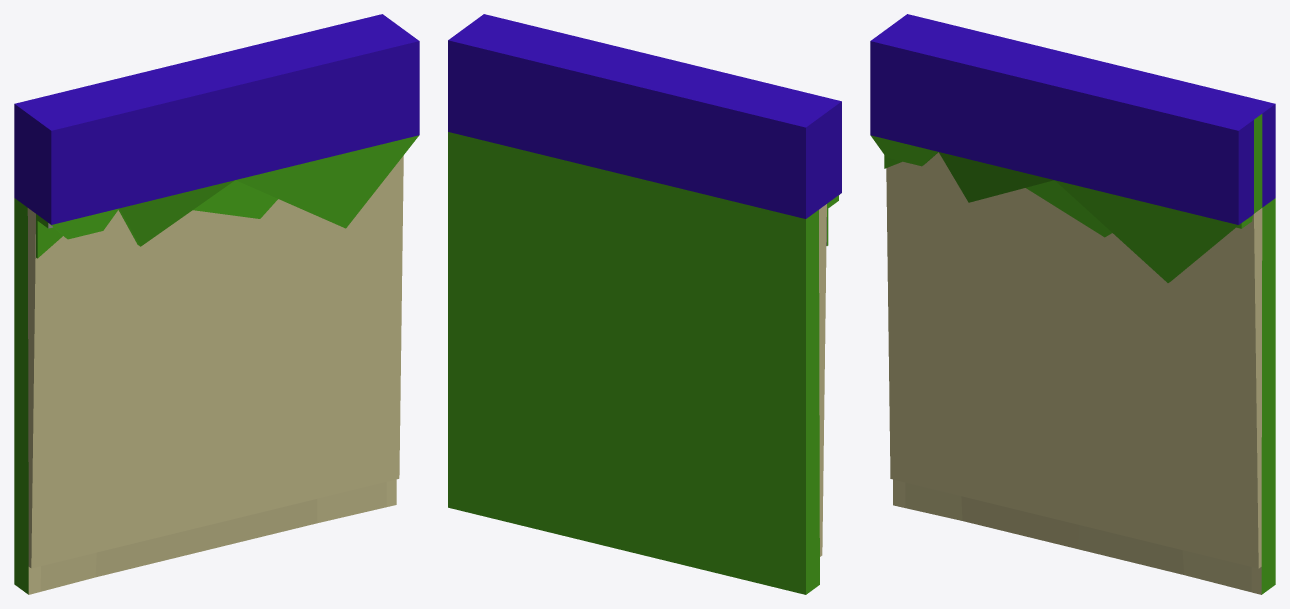
The picture shows the model from 3 angles, left to right: view 1: azimuth 30°, elevation 25°; view 2: azimuth 150°, elevation 25°; view 3: azimuth 330°, elevation 25°; orthographic projection. The views are drawn at different scales.
Parts seen in each view (by area): view 1: Box001; view 2: Box001; view 3: Box001.
Part boxes in pixels (box(x1,y1,x2,y2)): Box001: box(14, 14, 419, 594); Box001: box(448, 14, 841, 594); Box001: box(870, 14, 1275, 594).
Size of the model in its own units: 0.4 by 0.4992 by 0.07.
